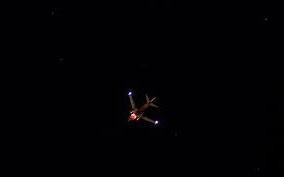Plane: (121, 87, 168, 127)
